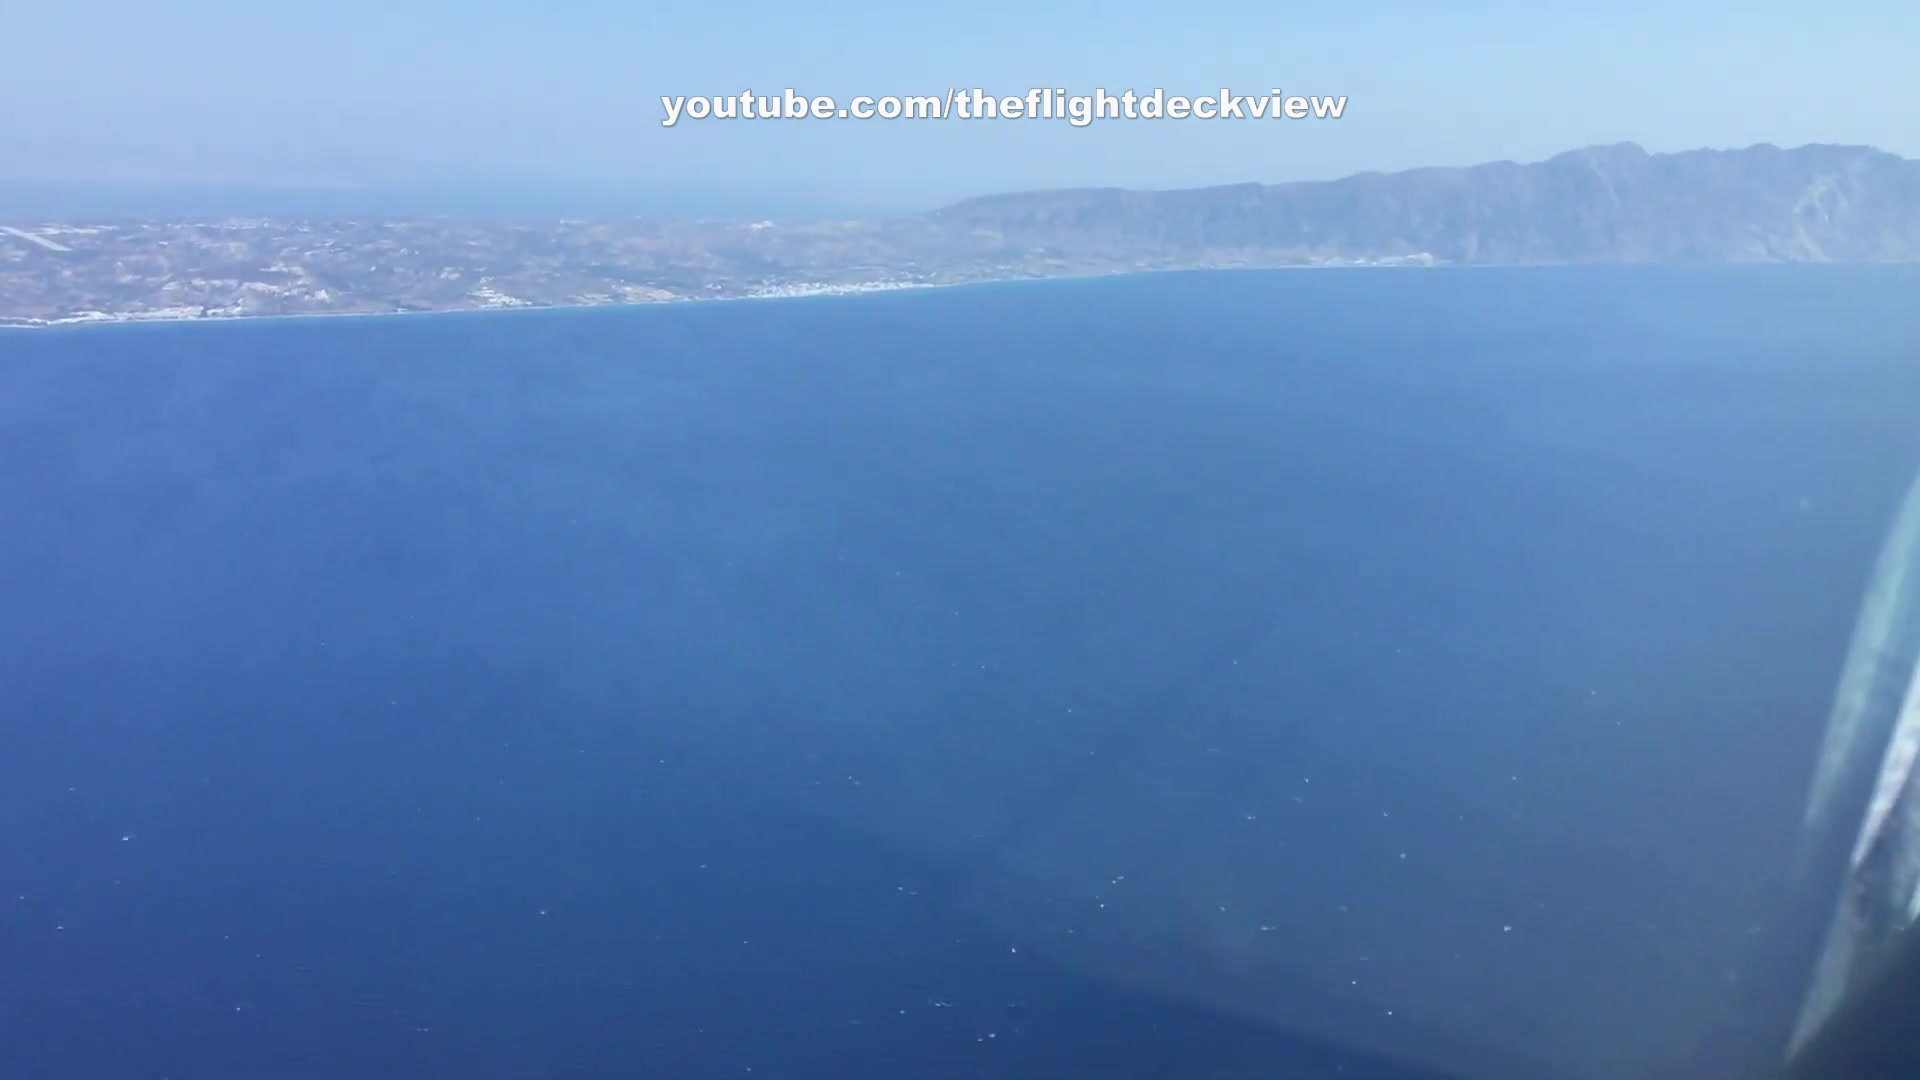runway: (1, 222, 74, 253)
